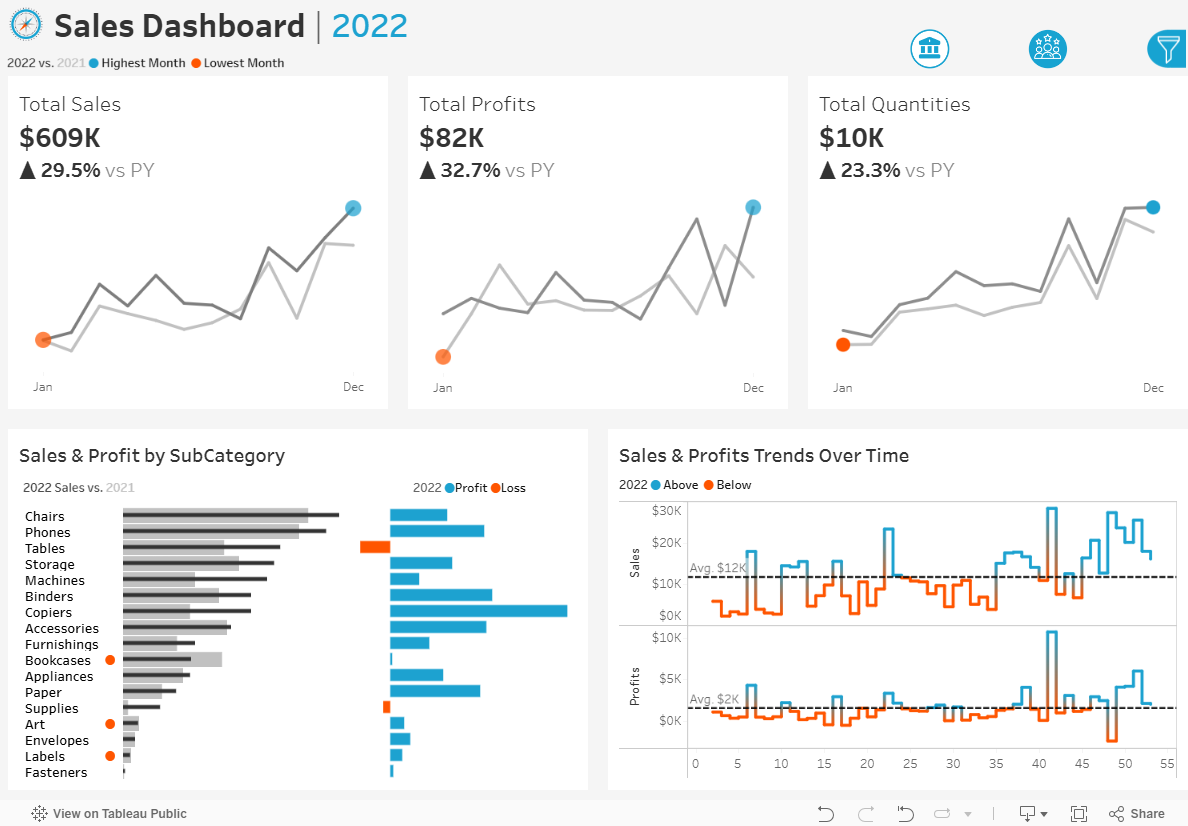

The dashboard page shown, as its layout file describes it:
{"tool":"tableau","page":{"name":"Sales Dashboard","canvas":[1200,800],"ordinal":1},"visuals":[{"type":"image","param":"Image/Icon - Logo.png","box":[0,0,52,48]},{"type":"text","box":[52,0,794,48]},{"type":"blank","box":[908,0,291,96]},{"type":"dashboard-object","box":[873,25,118,48]},{"type":"dashboard-object","box":[991,25,118,48]},{"type":"worksheet","title":"Legend KPI","mark":"Automatic","box":[0,48,1200,28]},{"type":"worksheet","title":"Sales BAN","mark":"Automatic","rows":["Calculation_360850927102181381"],"cols":["Order Date"],"box":[0,76,400,343]},{"type":"worksheet","title":"Profits BAN","mark":"Automatic","rows":["Calculation_360850927122300946"],"cols":["Order Date"],"box":[400,76,400,343]},{"type":"worksheet","title":"Quantities BAN","mark":"Line","rows":["Calculation_360850927130742808"],"cols":["Order Date"],"box":[800,76,400,343]},{"type":"text","box":[908,96,291,40]},{"type":"parameter","param":"[Parameters].[Parameter 1]","box":[908,136,291,56]},{"type":"text","box":[908,192,291,33]},{"type":"filter","title":"Sales BAN","param":"[federated.18xqhz8100ldc0131fiub183tnen].[none:Category:nk]","box":[908,225,291,61]},{"type":"filter","title":"Sales BAN","param":"[federated.18xqhz8100ldc0131fiub183tnen].[none:Sub-Category:nk]","box":[908,286,291,61]},{"type":"blank","box":[908,347,291,56]},{"type":"text","box":[908,403,291,33]},{"type":"text","box":[17,436,566,40]},{"type":"text","box":[617,436,566,40]},{"type":"filter","title":"Sales BAN","param":"[federated.18xqhz8100ldc0131fiub183tnen].[none:Region:nk]","box":[908,436,291,61]},{"type":"worksheet","title":"Sheet 7","mark":"Automatic","box":[17,476,394,32]},{"type":"text","box":[411,476,172,32]},{"type":"text","box":[617,476,566,29]},{"type":"filter","title":"Sales BAN","param":"[federated.18xqhz8100ldc0131fiub183tnen].[none:State:nk]","box":[908,497,291,61]},{"type":"worksheet","title":"WEEKLY Trends","mark":"Automatic","rows":["Calculation_360850927096709121","Calculation_360850927114694670"],"cols":["Order Date"],"box":[617,505,566,278]},{"type":"worksheet","title":"Sub Catgory Comparison","mark":"Bar","rows":["Sub-Category","Calculation_764767519020658688"],"cols":["Calculation_360850927097061378","Calculation_360850927096709121","Calculation_360850927114694670"],"box":[17,508,566,275]},{"type":"filter","title":"Sales BAN","param":"[federated.18xqhz8100ldc0131fiub183tnen].[none:City:nk]","box":[908,558,291,61]}]}

Visuals, with their boxes on the page's 1200x800 design canvas (x1, y1, x2, y2). These are canvas units, not pixel positions in the 1188x826 screenshot, which may show the page scaled, cropped or inside an application window:
image: bbox=(0, 0, 52, 48)
text: bbox=(52, 0, 846, 48)
blank: bbox=(908, 0, 1199, 96)
dashboard-object: bbox=(873, 25, 991, 73)
dashboard-object: bbox=(991, 25, 1109, 73)
"Legend KPI" worksheet: bbox=(0, 48, 1200, 76)
"Sales BAN" worksheet: bbox=(0, 76, 400, 419)
"Profits BAN" worksheet: bbox=(400, 76, 800, 419)
"Quantities BAN" worksheet (Line marks): bbox=(800, 76, 1200, 419)
text: bbox=(908, 96, 1199, 136)
parameter: bbox=(908, 136, 1199, 192)
text: bbox=(908, 192, 1199, 225)
"Sales BAN" filter: bbox=(908, 225, 1199, 286)
"Sales BAN" filter: bbox=(908, 286, 1199, 347)
blank: bbox=(908, 347, 1199, 403)
text: bbox=(908, 403, 1199, 436)
text: bbox=(17, 436, 583, 476)
text: bbox=(617, 436, 1183, 476)
"Sales BAN" filter: bbox=(908, 436, 1199, 497)
"Sheet 7" worksheet: bbox=(17, 476, 411, 508)
text: bbox=(411, 476, 583, 508)
text: bbox=(617, 476, 1183, 505)
"Sales BAN" filter: bbox=(908, 497, 1199, 558)
"WEEKLY Trends" worksheet: bbox=(617, 505, 1183, 783)
"Sub Catgory Comparison" worksheet (Bar marks): bbox=(17, 508, 583, 783)
"Sales BAN" filter: bbox=(908, 558, 1199, 619)
